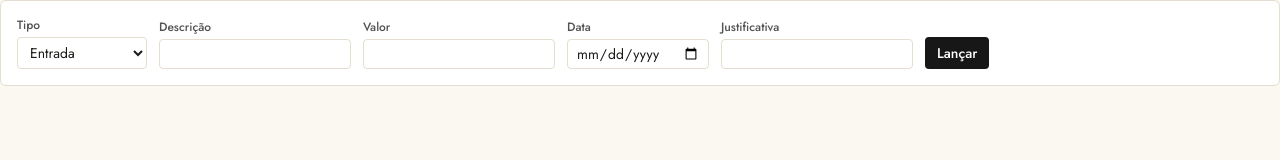
it: ManualEntryForm › posts the entered values to /api/caixa/ajustes and shows the error message on failure
Type "Aporte dos sócios" into the field labelled "Descrição" at (255, 54), box [159,39,351,69]
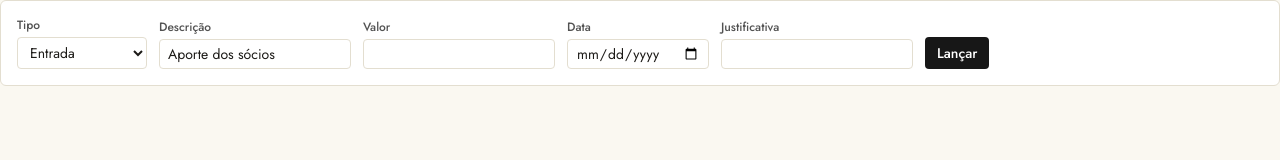
Type "5000" into the number field labelled "Valor" at (459, 54), box [363,39,555,69]
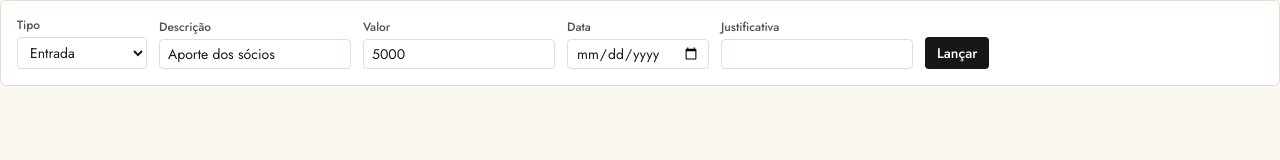
Type "2026-08-15" into the date field labelled "Data" at (638, 54), box [567,39,709,69]
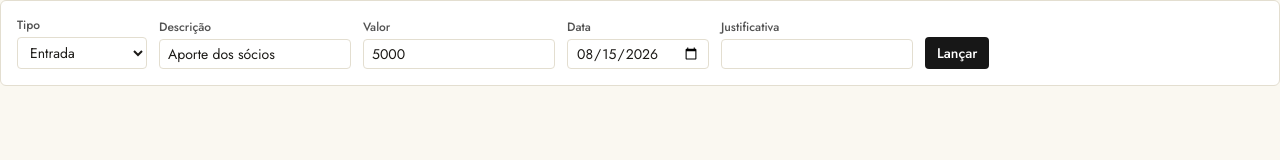
Type "Reforço de caixa" into the field labelled "Justificativa" at (817, 54), box [721,39,913,69]
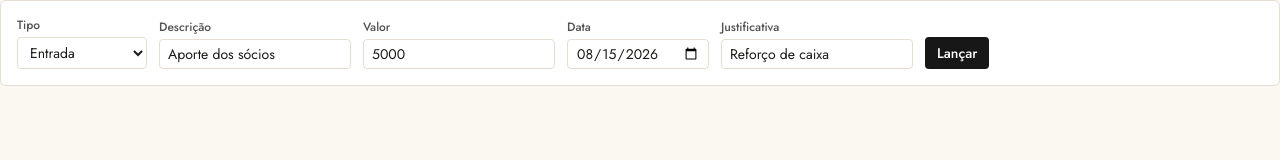
Click the button "Lançar" at (957, 53), box [925,37,989,69]
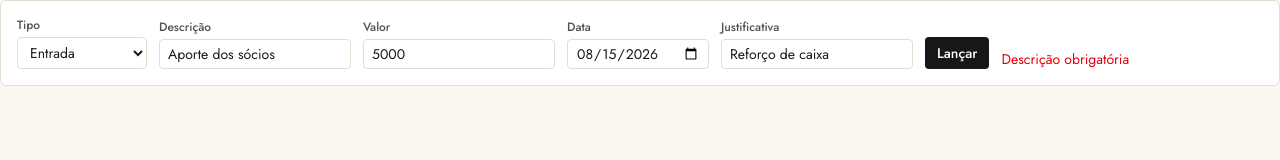
Expected: the text "Descrição obrigatória" is shown, [1001,49,1129,69]
